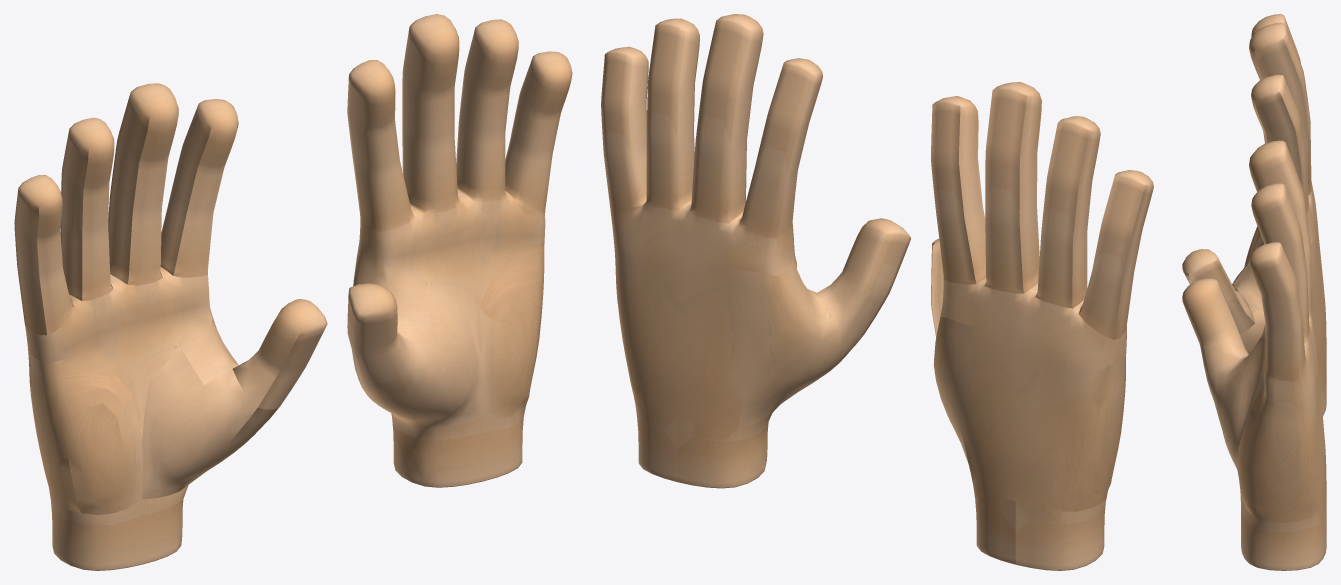
File: manodiez10.fbx
The picture shows the model from 3 angles, left to right: view 1: azimuth 30°, elevation 25°; view 2: azimuth 150°, elevation 25°; view 3: azimuth 270°, elevation 25°; orthographic projection. The views are drawn at different scales.
Parts seen in each view (by area): view 1: uploads_files_810024_Hand; view 2: uploads_files_810024_Hand; view 3: uploads_files_810024_Hand.
Part boxes in pixels (x1=…): uploads_files_810024_Hand: x1=14, y1=14, x2=572, y2=570; uploads_files_810024_Hand: x1=601, y1=14, x2=1153, y2=570; uploads_files_810024_Hand: x1=1182, y1=14, x2=1326, y2=570.
Bounding box in the file's own units: 3.55 × 2.83 × 0.946.
Materials: 2 (2 with a texture image).
